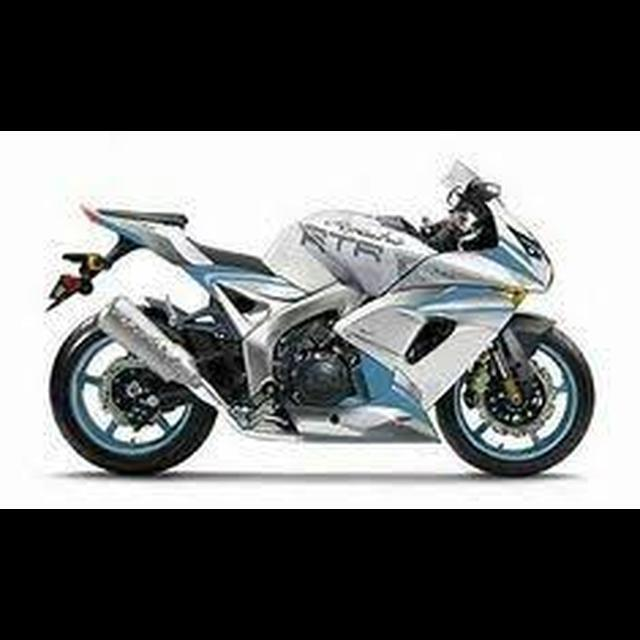motorcycle: (37, 151, 602, 483)
